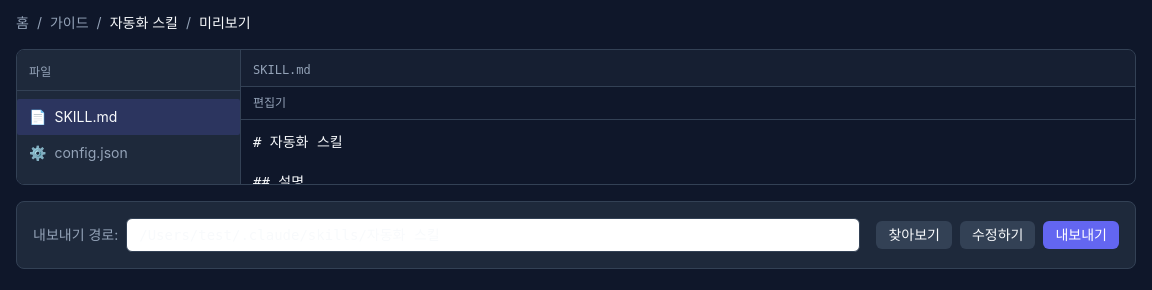
Test: Preview Integration › 시나리오 2: 파일 편집 및 더티 상태 › 다른 파일 전환 시 각 파일의 편집 상태가 독립적으로 유지된다
The image size is (1152, 290).
// Edit first file
Replace the text in the text box named "파일 내용 편집기" with "# 첫 번째 파일 수정". click: [688, 152]
box: [241,120,1135,184]
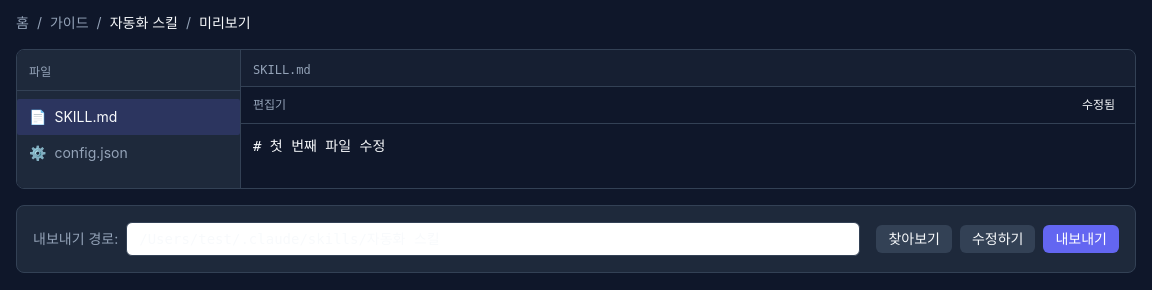
// Switch to second file
Click the button "⚙️ config.json". click: [128, 153]
box: [17,135,240,171]
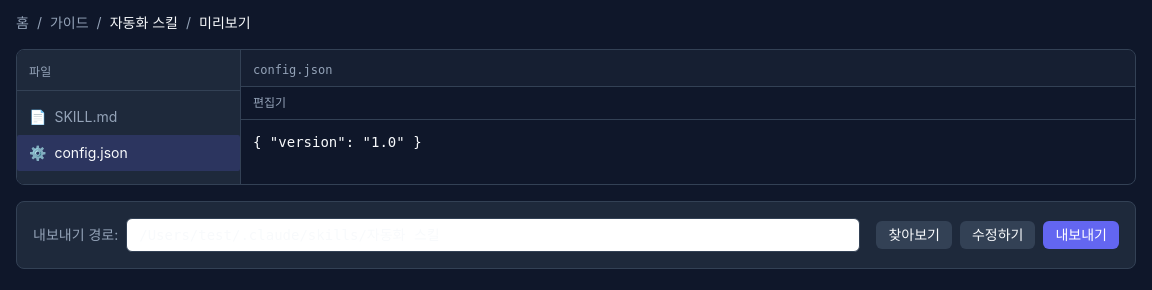
Check: the text box showing "version" is shown, box [241,120,1135,184]
Check: the text "수정됨" is gone
